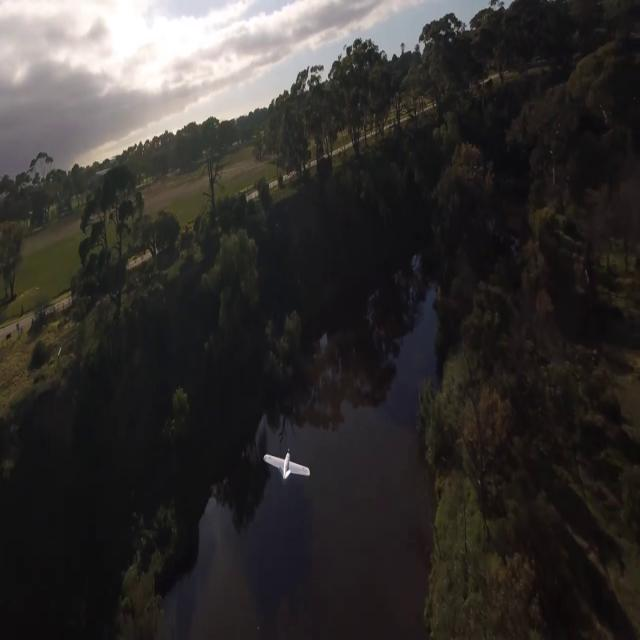iha: (260, 444, 316, 478)
